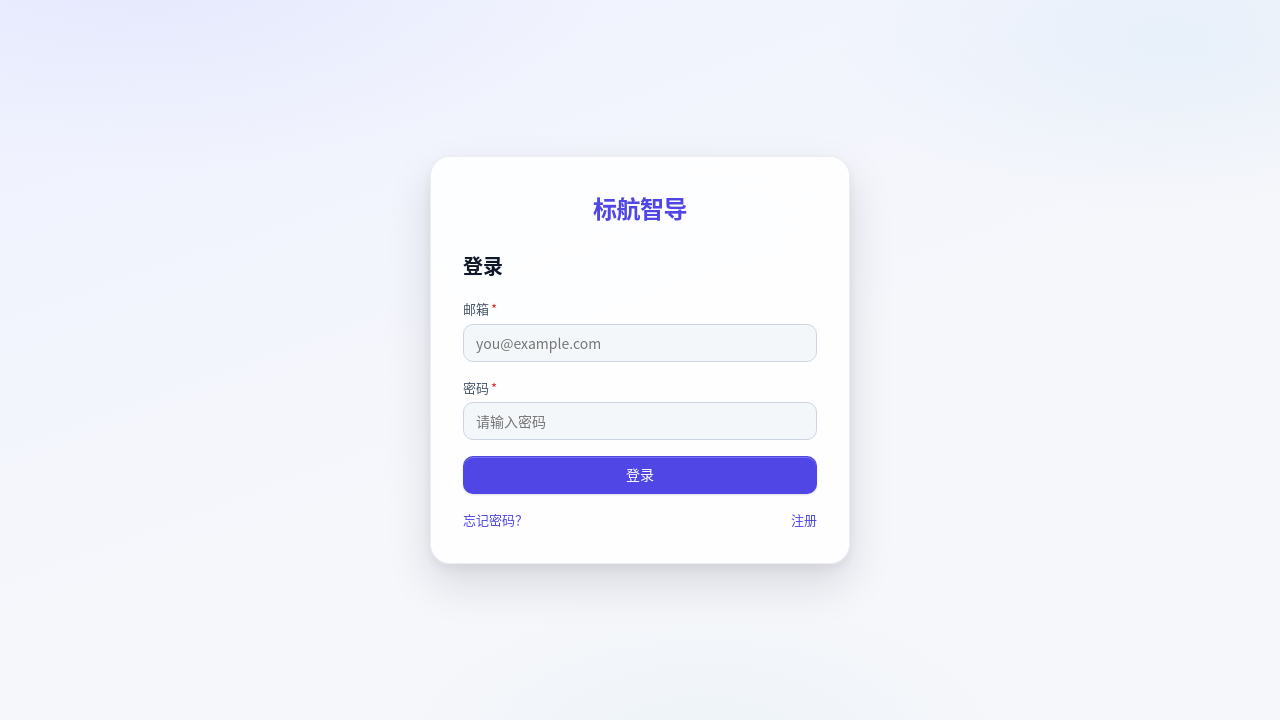
Scenario: LoginPage › 触发 IP 限流时显示倒计时并暂时禁用提交
This screenshot has width=1280, height=720.
Type "a@b.com" into the field with placeholder "you@example.com" at (640, 342), box [463, 324, 817, 362]
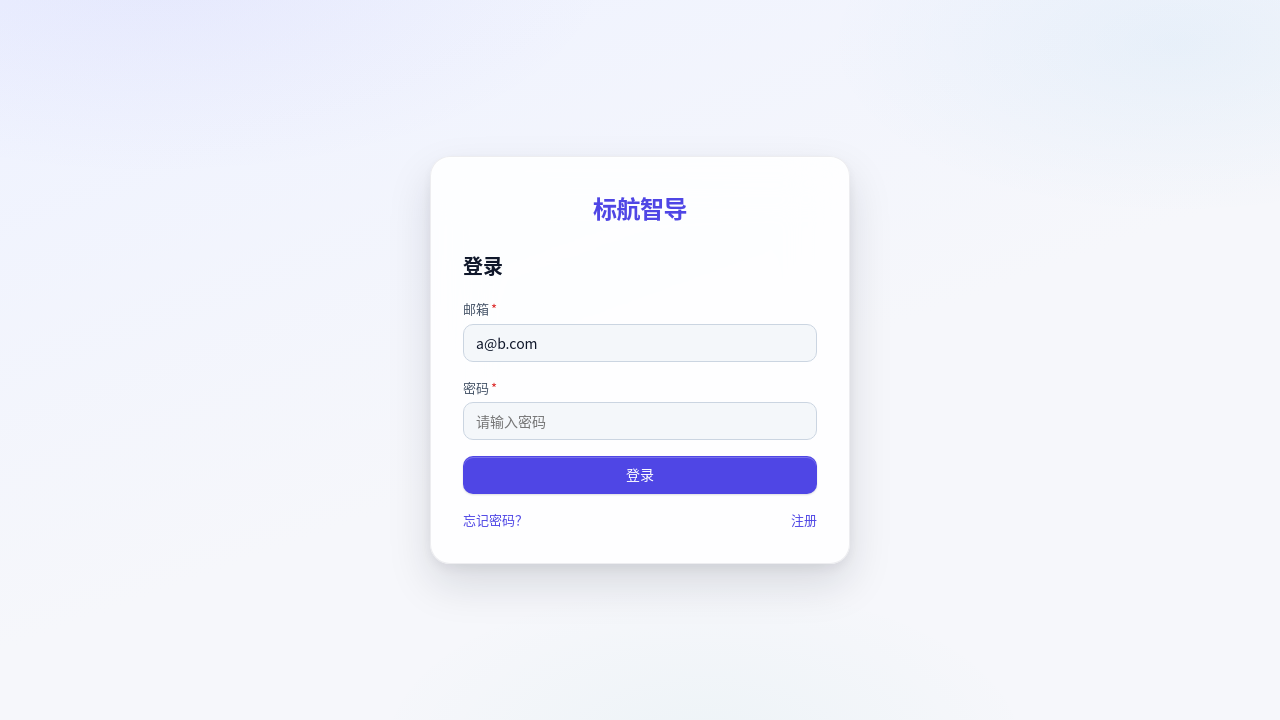
Type "WrongPass1" into the password field with placeholder "请输入密码" at (640, 421), box [463, 402, 817, 440]
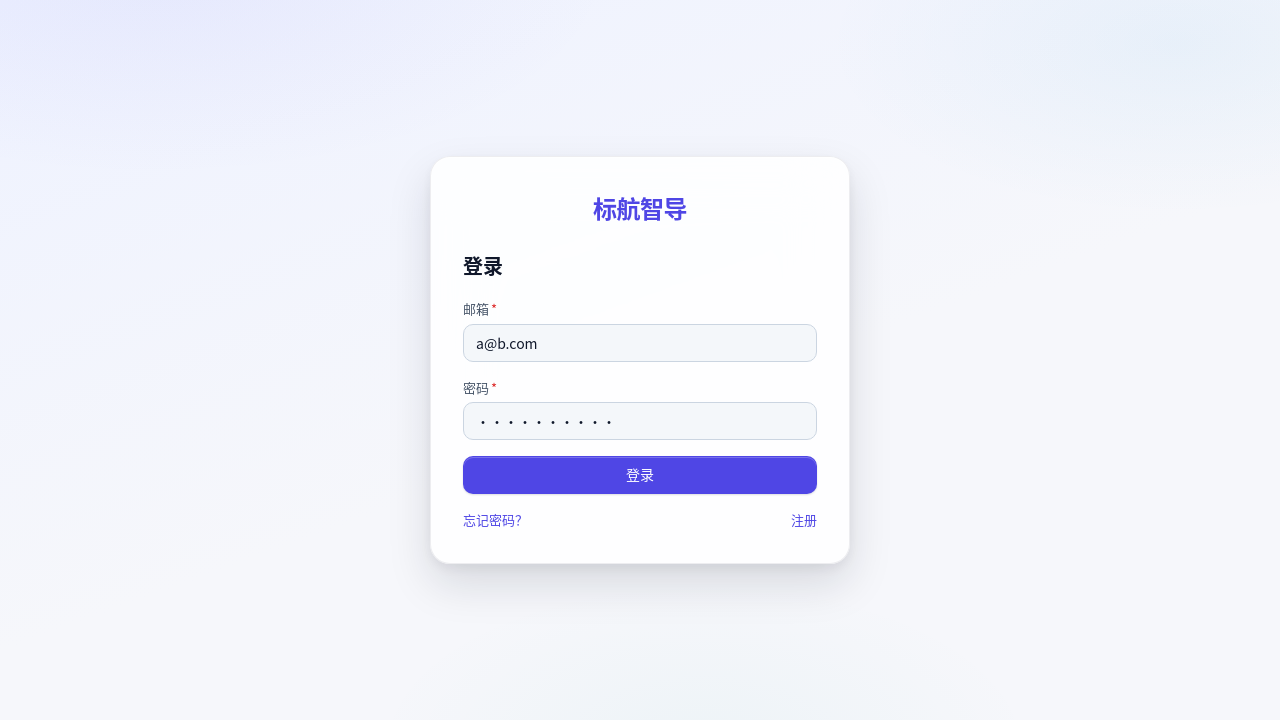
Click the button "登录" at (640, 475), box [463, 456, 817, 494]
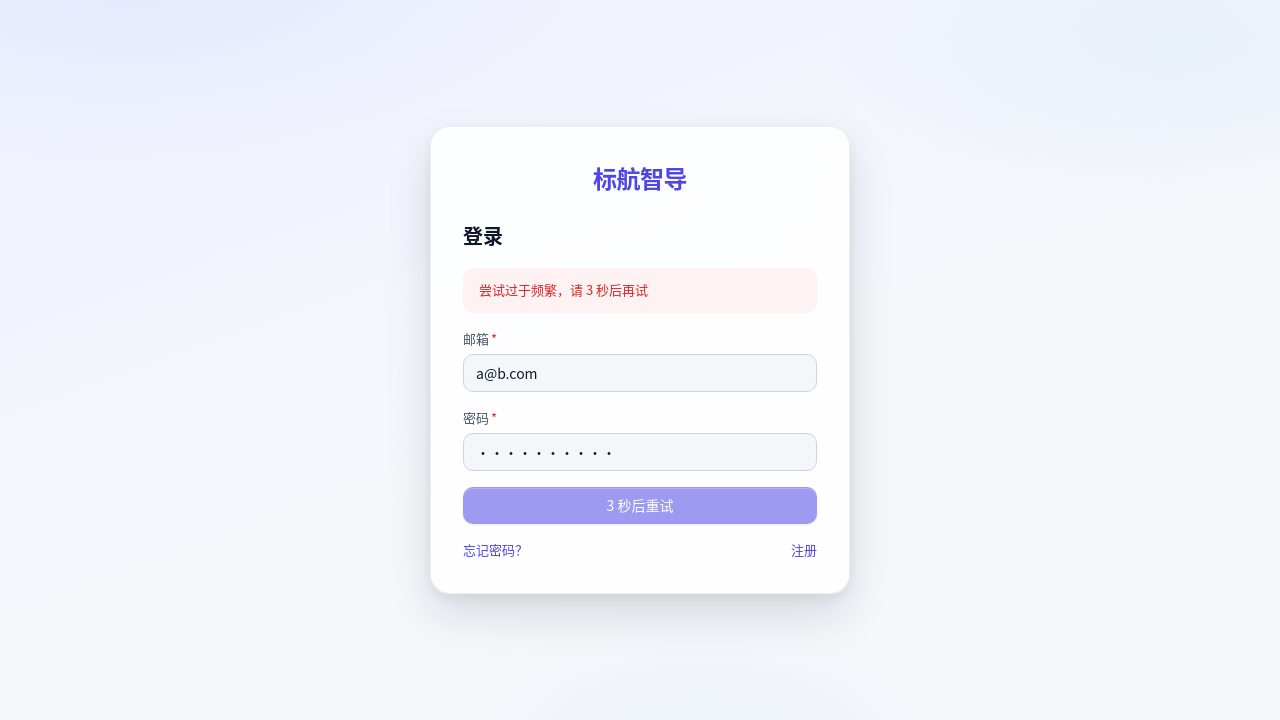
Expected: the button "3 秒后重试" is disabled, [463, 487, 817, 524]
Expected: the text "尝试过于频繁，请 3 秒后再试" is shown, [463, 268, 817, 313]
